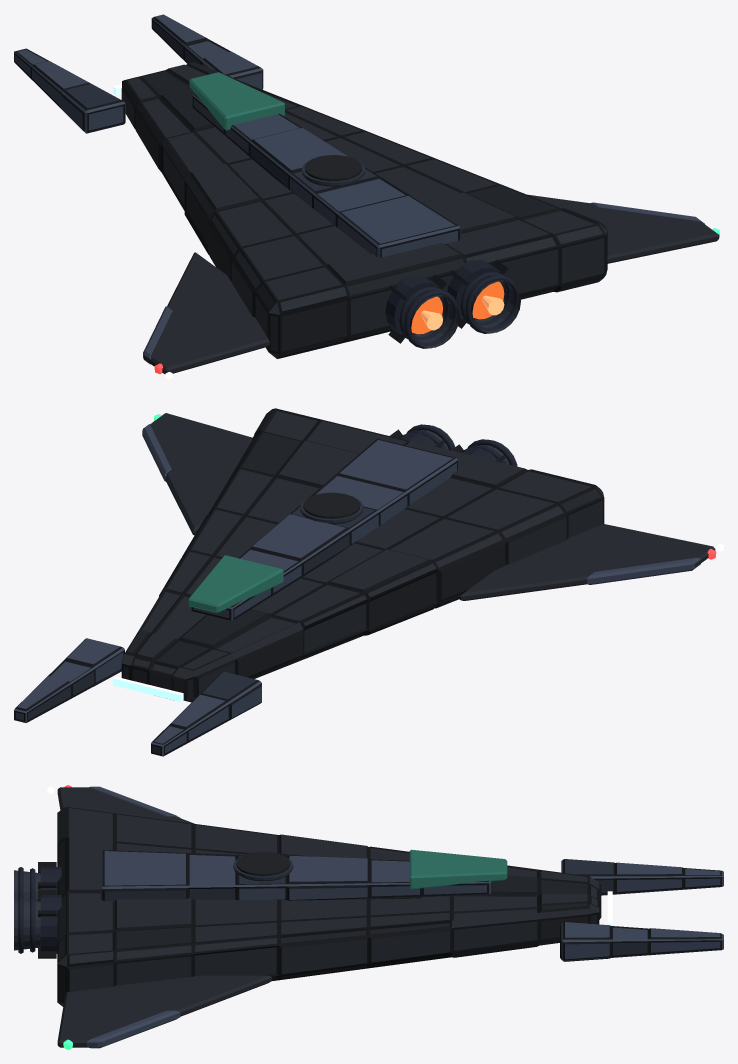
The model's file is phantom.glb.
3 views of the same model, one above another, from view 1: azimuth 30°, elevation 25°; view 2: azimuth 150°, elevation 25°; view 3: azimuth 270°, elevation 25° (orthographic). The views are drawn at different scales.
Visible parts, largest first — view 1: phantom_mesh; view 2: phantom_mesh; view 3: phantom_mesh.
Part boxes in pixels (<box>): phantom_mesh: <box>14,14,719,374</box>; phantom_mesh: <box>14,408,716,756</box>; phantom_mesh: <box>14,785,723,1049</box>.
Size of the model in its own units: 10.17 by 1.46 by 11.79.
